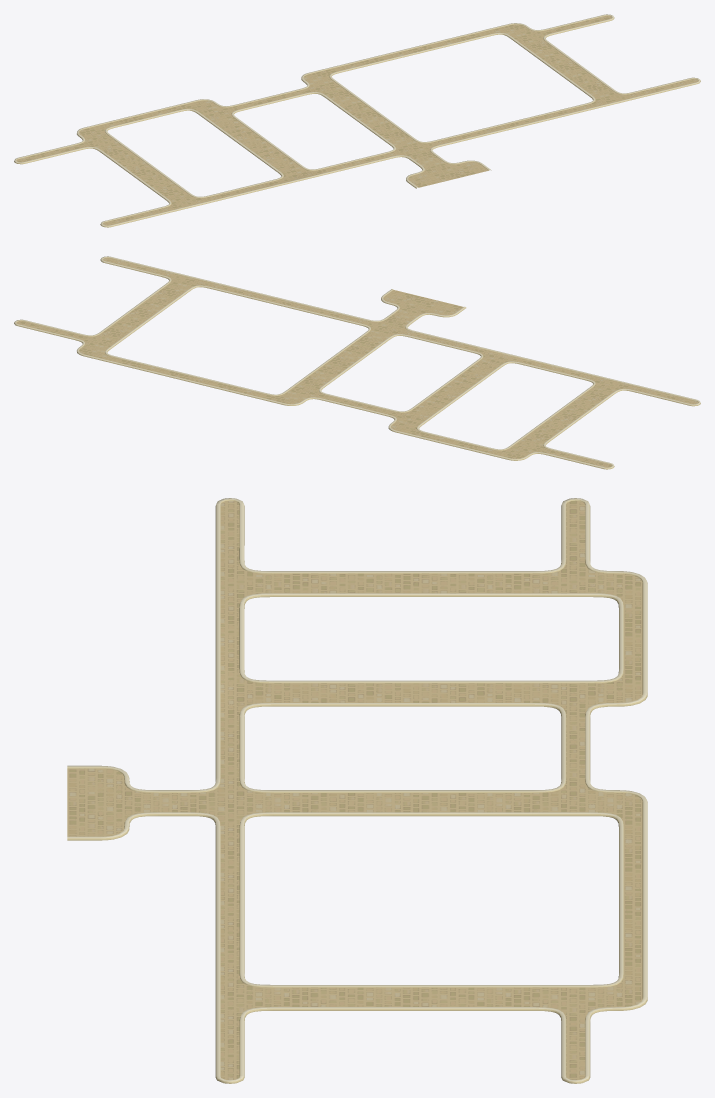
Rendered from Road.fbx.
3 renders of one model, top to bottom at view 1: azimuth 30°, elevation 25°; view 2: azimuth 150°, elevation 25°; view 3: azimuth 270°, elevation 25°, orthographic. The views are drawn at different scales.
Parts seen in each view (by area): view 1: road; view 2: road; view 3: road.
Part boxes in pixels (bbox=[...]): road: bbox=[14, 14, 700, 227]; road: bbox=[14, 256, 700, 469]; road: bbox=[67, 498, 647, 1083].
Size of the model in its own units: 4800 by 7.51 by 2016.
